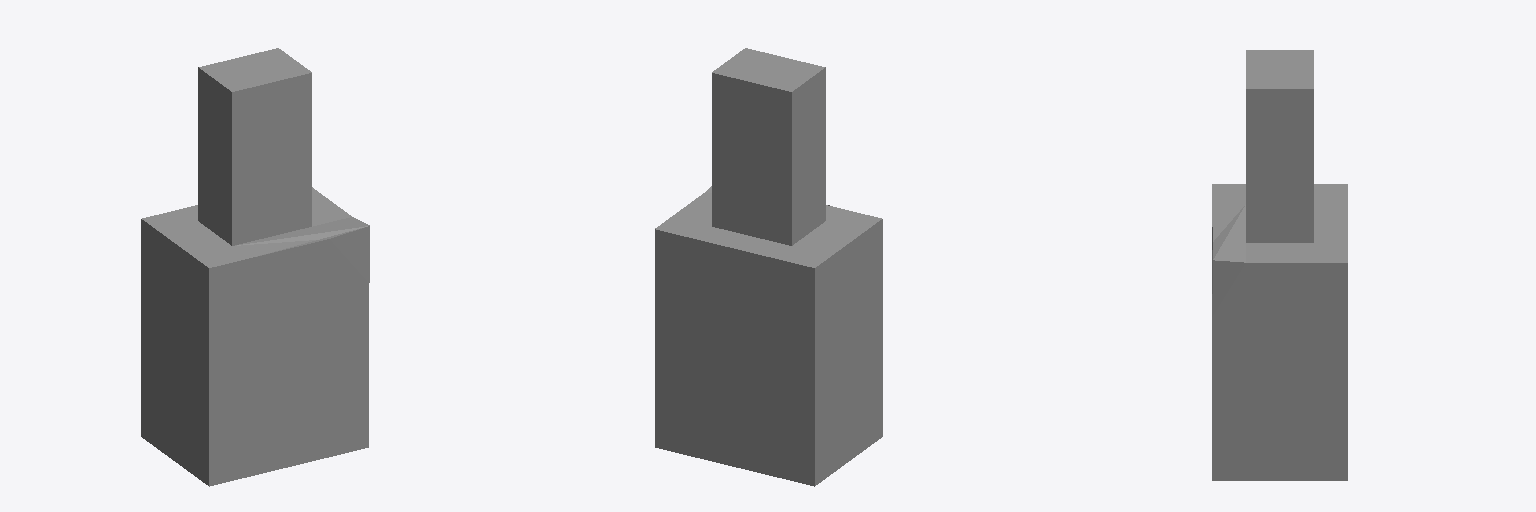
Rendered from simple_building2.obj.
3 views of the same model, side by side, from view 1: azimuth 30°, elevation 25°; view 2: azimuth 150°, elevation 25°; view 3: azimuth 270°, elevation 25° (orthographic).
Parts seen in each view (by area): view 1: Cube.001, Cube; view 2: Cube, Cube.001; view 3: Cube.001, Cube.
Boxes of the visible parts, x1=… form: Cube.001: x1=141, y1=48, x2=369, y2=486; Cube: x1=141, y1=55, x2=369, y2=484; Cube: x1=655, y1=57, x2=882, y2=486; Cube.001: x1=655, y1=48, x2=882, y2=485; Cube.001: x1=1212, y1=50, x2=1347, y2=480; Cube: x1=1212, y1=50, x2=1347, y2=480.
Size of the model in its own units: 2.35 by 5.17 by 1.71.